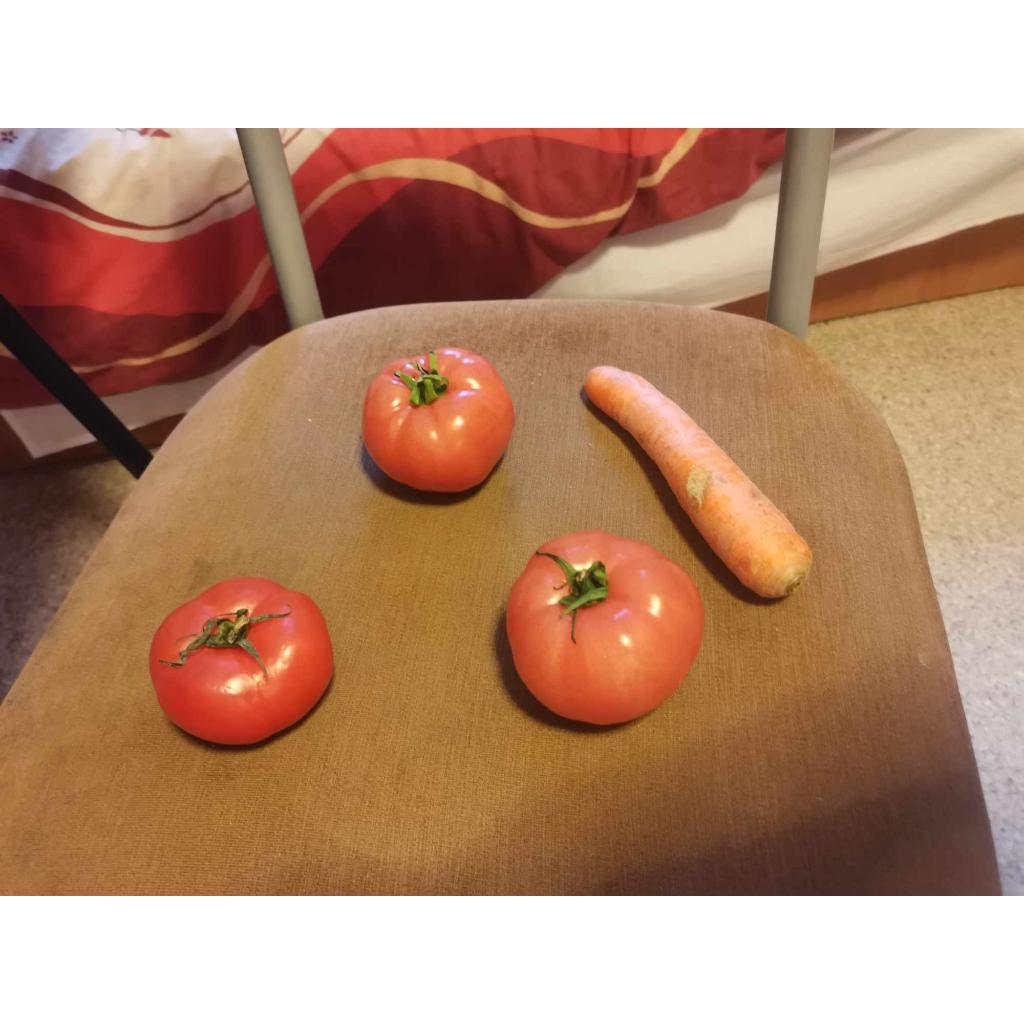carrot: (584, 366, 812, 598)
tomato: (506, 530, 704, 724), (150, 578, 334, 744), (362, 348, 514, 492)
